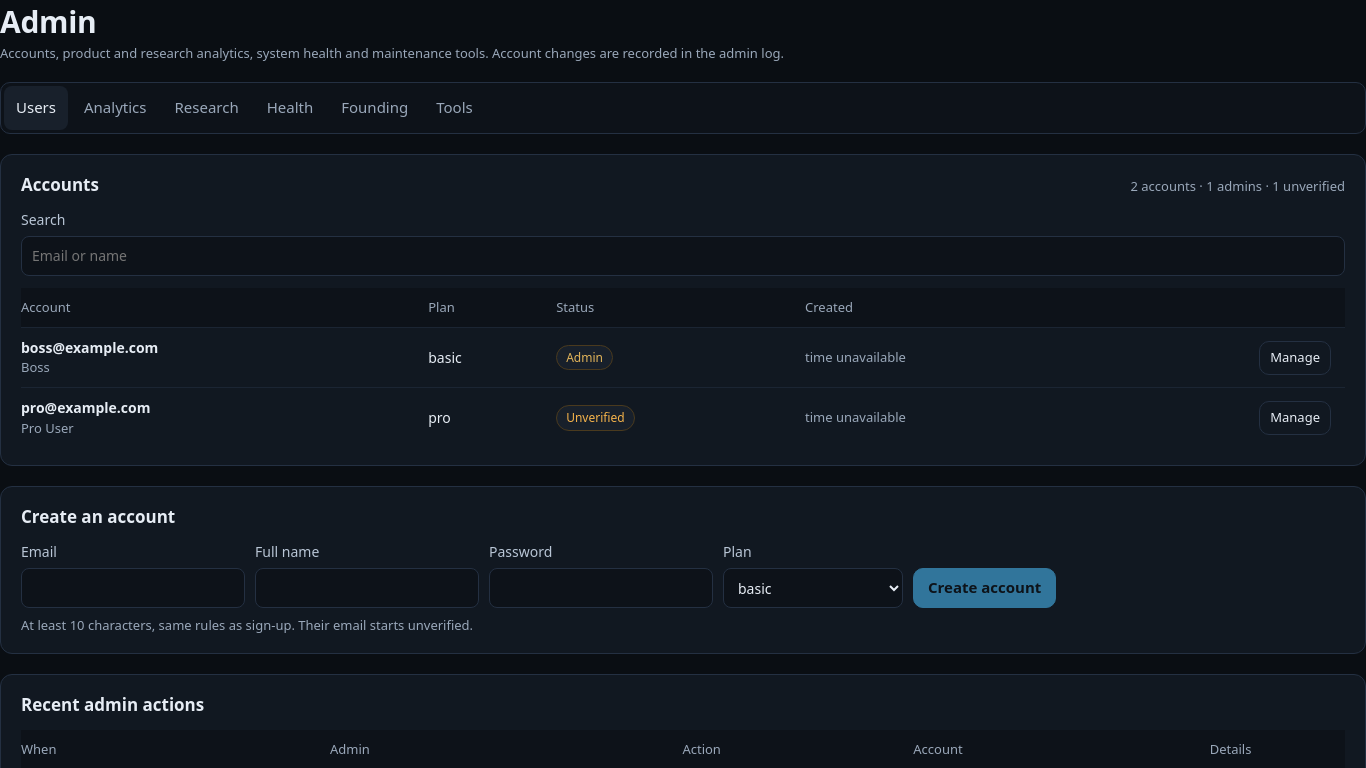
Test: Admin page › shows signal performance, filters it, and the research evidence
Click the tab "Research".
click(207, 108)  # box [162,86,251,130]
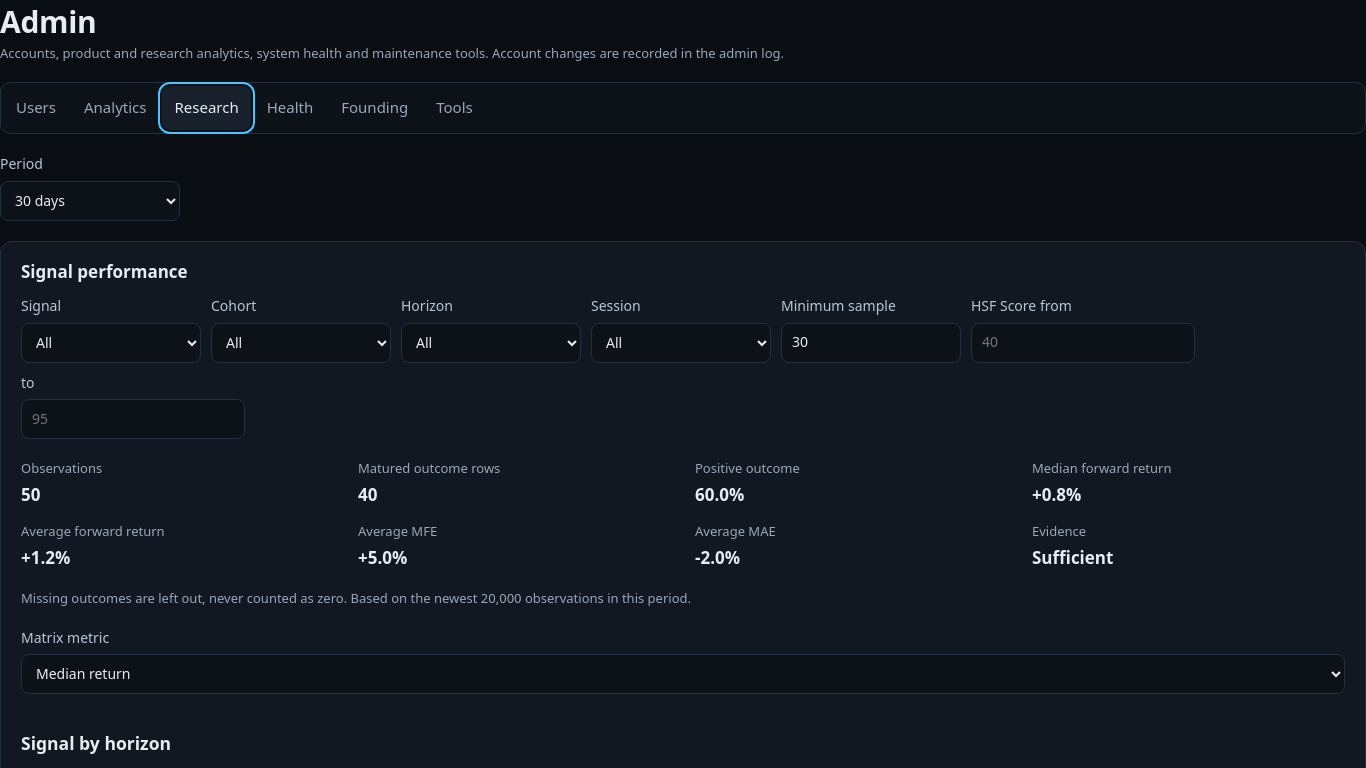
Expected: the text "Based on the newest 20,000 observations" is shown, [347,589,691,607]
Select "Breakout" in the dropdown labelled "Signal" at coordinates (111, 343), box [21,323,201,363]
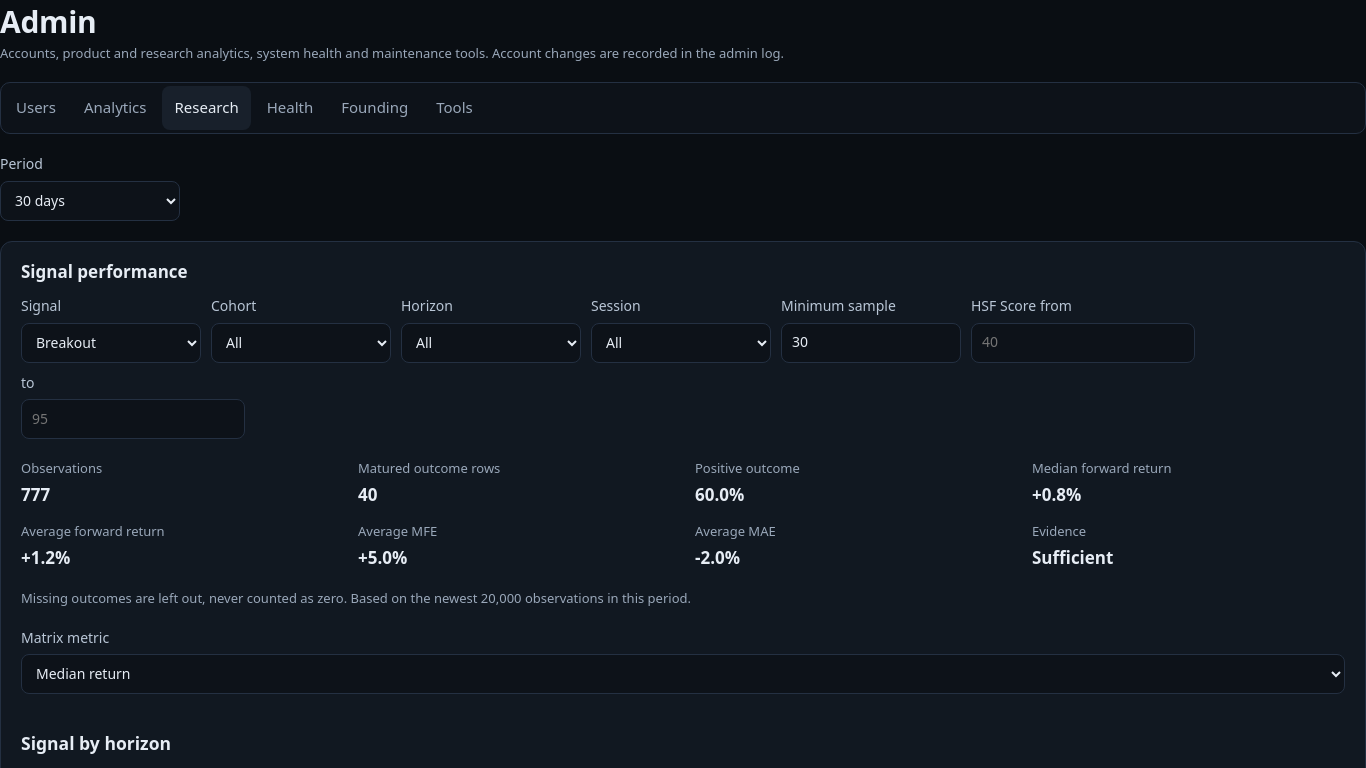
Expected: the text "777" is shown, [21,484,50,506]
